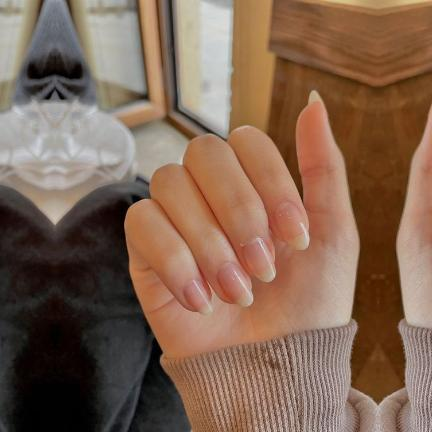Nail: (274, 202, 309, 250), (217, 263, 253, 307), (242, 238, 276, 282), (183, 280, 214, 315)
